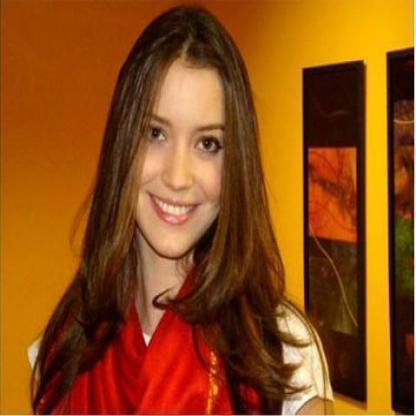long-hair: (44, 258, 299, 324)
